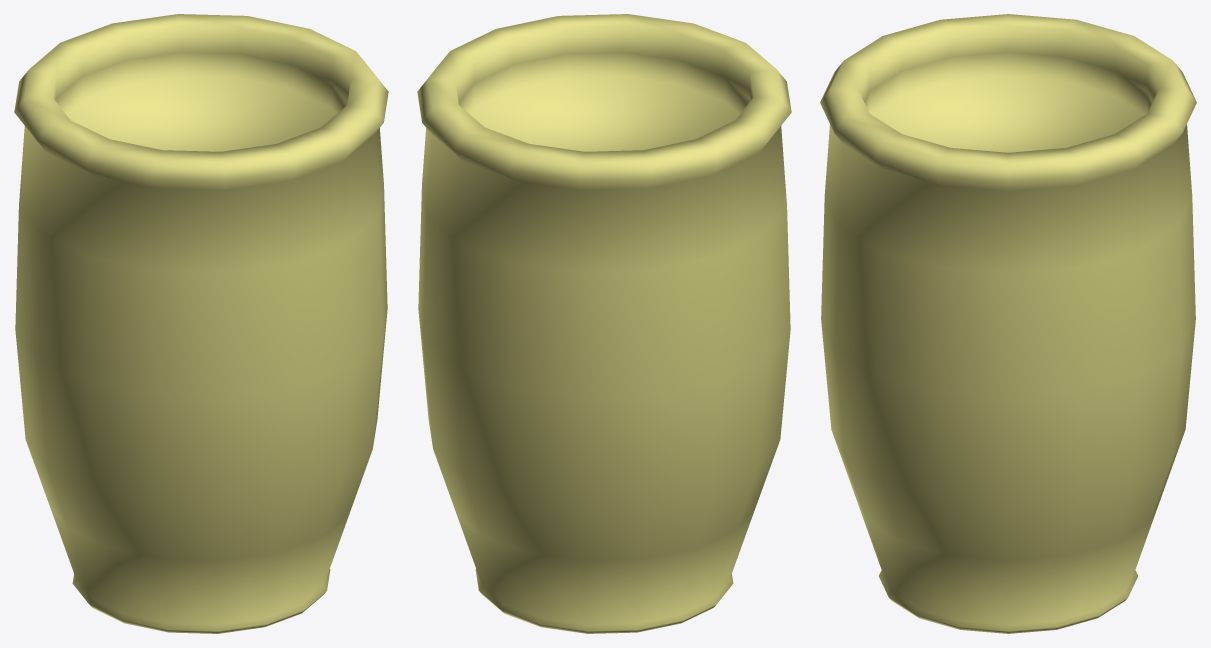
The model's file is tool7.fbx.
3 views of the same model, side by side, from view 1: azimuth 30°, elevation 25°; view 2: azimuth 150°, elevation 25°; view 3: azimuth 270°, elevation 25° (orthographic).
Visible parts, largest first — view 1: Vase_03_Circle.002; view 2: Vase_03_Circle.002; view 3: Vase_03_Circle.002.
Part boxes in pixels (x1,y1,x2,y2): Vase_03_Circle.002: (14, 14, 388, 633); Vase_03_Circle.002: (417, 14, 791, 633); Vase_03_Circle.002: (820, 14, 1196, 633).
Bounding box in the file's own units: 181 × 260 × 181.
